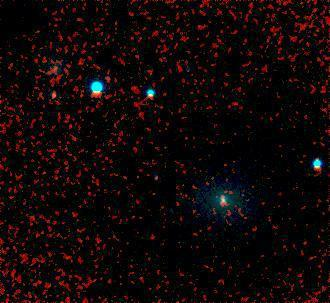star: (214, 187, 244, 217)
